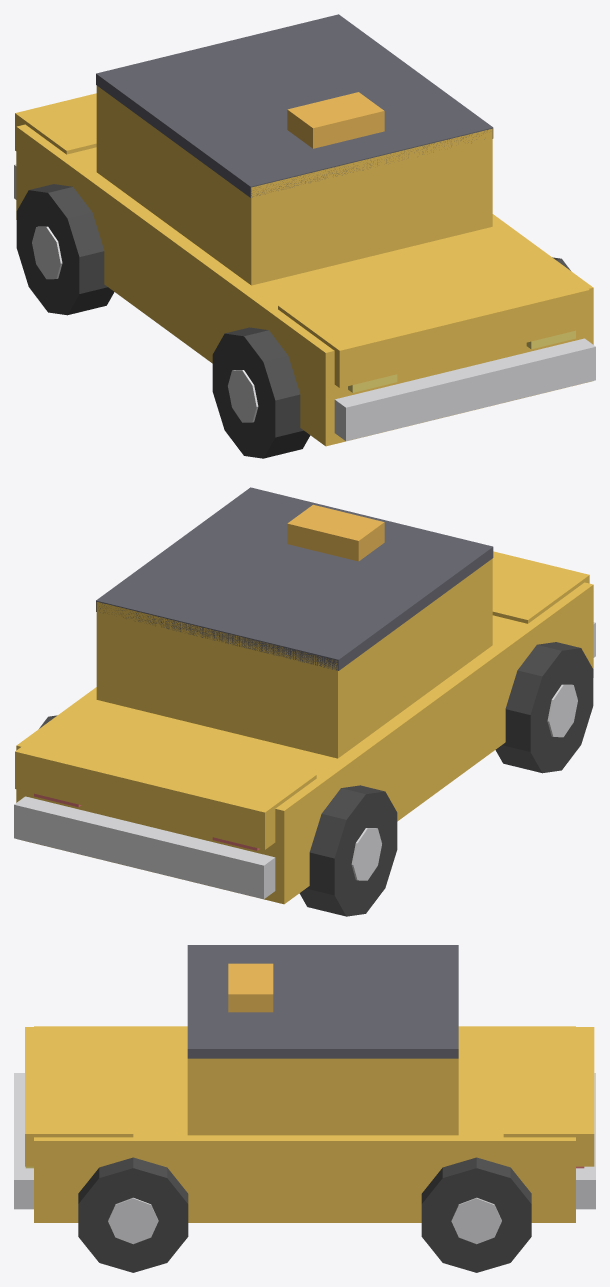
The model's file is taxi.glb.
The picture shows the model from 3 angles, top to bottom: view 1: azimuth 30°, elevation 25°; view 2: azimuth 150°, elevation 25°; view 3: azimuth 270°, elevation 25°; orthographic projection. The views are drawn at different scales.
Visible parts, largest first — view 1: taxi; view 2: taxi; view 3: taxi.
Boxes of the visible parts, x1,y1,x2,y2 form: taxi: (14, 14, 595, 458); taxi: (14, 487, 595, 916); taxi: (14, 945, 595, 1272).
Size of the model in its own units: 1.8 by 1.38 by 3.22.
